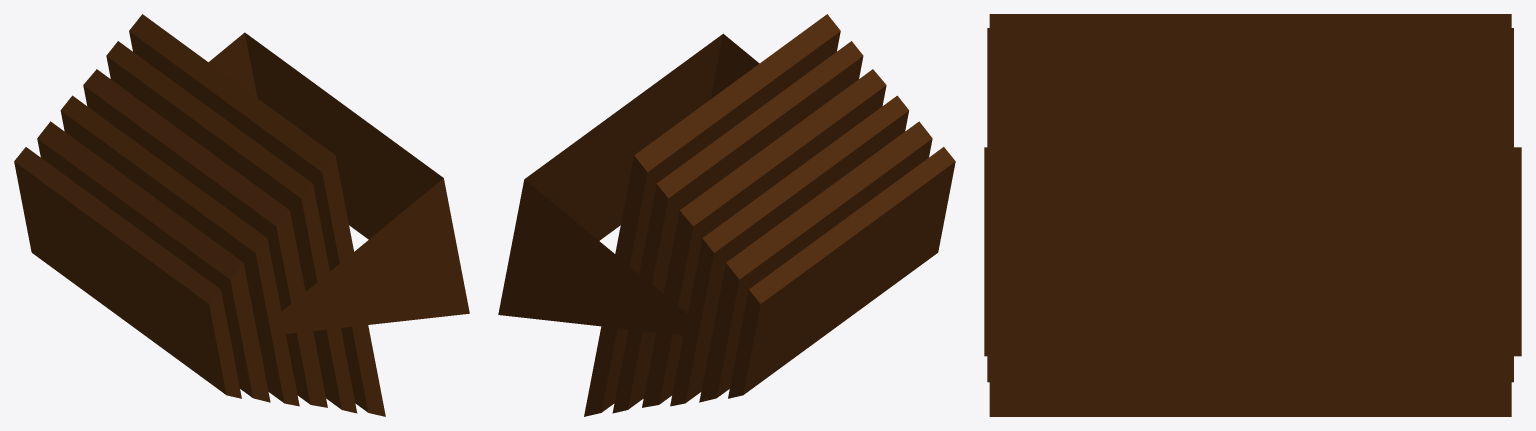
The model's file is chevron_2.obj.
The picture shows the model from 3 angles, left to right: view 1: azimuth 30°, elevation 25°; view 2: azimuth 150°, elevation 25°; view 3: azimuth 270°, elevation 25°; orthographic projection. The views are drawn at different scales.
Visible parts, largest first — view 1: chevron_2; view 2: chevron_2; view 3: chevron_2.
Boxes of the visible parts, x1,y1,x2,y2 form: chevron_2: (14, 14, 469, 416); chevron_2: (498, 14, 955, 416); chevron_2: (984, 14, 1521, 416).
Size of the model in its own units: 0.2672 by 0.2693 by 0.3548.
